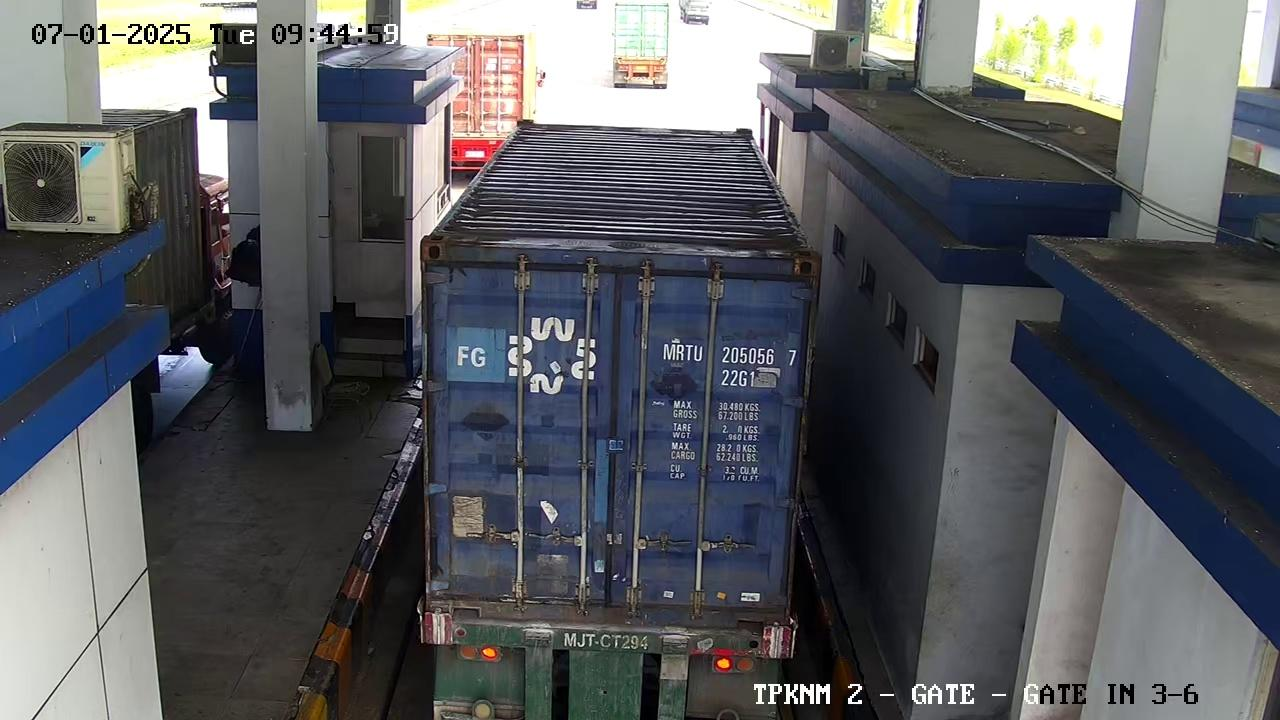Container_ID: (649, 341, 799, 367)
